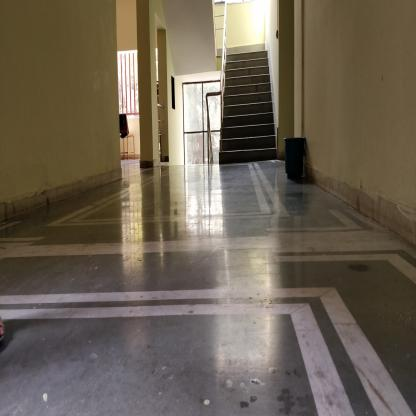stairs: (228, 49, 268, 167)
